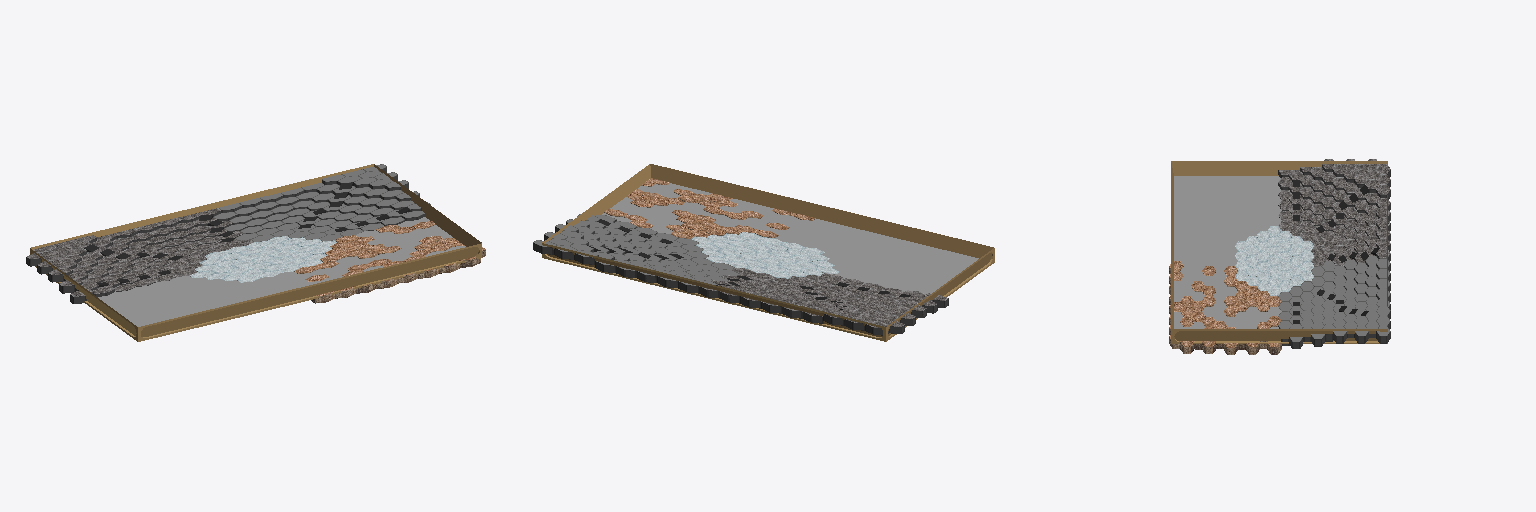
The picture shows the model from 3 angles: view 1: azimuth 30°, elevation 25°; view 2: azimuth 150°, elevation 25°; view 3: azimuth 270°, elevation 25°; orthographic projection.
Parts seen in each view (by area): view 1: Circle.670_Circle.898_Material.003, Circle.679_Circle.907_Material.002, walls_wall1_walls_Cube.002_Cube.002_Material_wall1_walls_Cube.0, floor_Cube_Cube_Material.000_floor_Cube_Cube_Material.000_Mater, Circle.893_Circle.1121_Material.001, Circle.333_Circle.472_Material.004, Circle.624_Circle.820_Material.012; view 2: floor_Cube_Cube_Material.000_floor_Cube_Cube_Material.000_Mater, walls_wall1_walls_Cube.002_Cube.002_Material_wall1_walls_Cube.0, Circle.670_Circle.898_Material.003, Circle.679_Circle.907_Material.002, Circle.333_Circle.472_Material.004, Circle.893_Circle.1121_Material.001, Circle.624_Circle.820_Material.012; view 3: floor_Cube_Cube_Material.000_floor_Cube_Cube_Material.000_Mater, Circle.670_Circle.898_Material.003, Circle.679_Circle.907_Material.002, walls_wall1_walls_Cube.002_Cube.002_Material_wall1_walls_Cube.0, Circle.893_Circle.1121_Material.001, Circle.333_Circle.472_Material.004, Circle.624_Circle.820_Material.012.
Boxes of the visible parts, x1,y1,x2,y2 form: Circle.670_Circle.898_Material.003: [26, 208, 253, 303]; Circle.679_Circle.907_Material.002: [214, 164, 430, 241]; walls_wall1_walls_Cube.002_Cube.002_Material_wall1_walls_Cube.0: [30, 164, 481, 341]; floor_Cube_Cube_Material.000_floor_Cube_Cube_Material.000_Mater: [98, 217, 465, 326]; Circle.893_Circle.1121_Material.001: [294, 221, 485, 303]; Circle.333_Circle.472_Material.004: [190, 236, 337, 282]; Circle.624_Circle.820_Material.012: [84, 182, 409, 286]; floor_Cube_Cube_Material.000_floor_Cube_Cube_Material.000_Mater: [602, 183, 978, 293]; walls_wall1_walls_Cube.002_Cube.002_Material_wall1_walls_Cube.0: [542, 164, 994, 341]; Circle.670_Circle.898_Material.003: [699, 268, 948, 335]; Circle.679_Circle.907_Material.002: [533, 214, 738, 293]; Circle.333_Circle.472_Material.004: [692, 232, 838, 278]; Circle.893_Circle.1121_Material.001: [604, 178, 815, 238]; Circle.624_Circle.820_Material.012: [587, 219, 910, 309]; floor_Cube_Cube_Material.000_floor_Cube_Cube_Material.000_Mater: [1174, 176, 1281, 328]; Circle.670_Circle.898_Material.003: [1278, 159, 1390, 265]; Circle.679_Circle.907_Material.002: [1278, 256, 1390, 348]; walls_wall1_walls_Cube.002_Cube.002_Material_wall1_walls_Cube.0: [1171, 161, 1387, 343]; Circle.893_Circle.1121_Material.001: [1169, 261, 1281, 354]; Circle.333_Circle.472_Material.004: [1235, 226, 1313, 295]; Circle.624_Circle.820_Material.012: [1293, 180, 1379, 323].
Size of the model in its own units: 27.82 by 1.57 by 14.72.
7 materials, 4 textured.